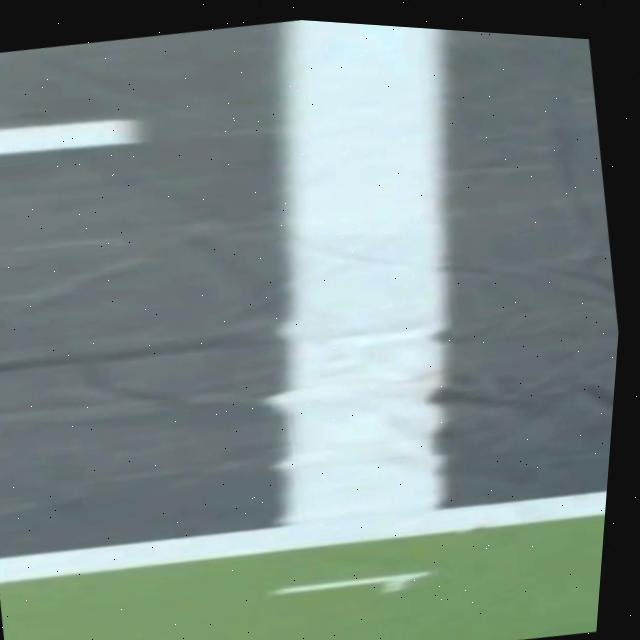center: (0, 118, 142, 153)
right: (0, 489, 607, 581)
